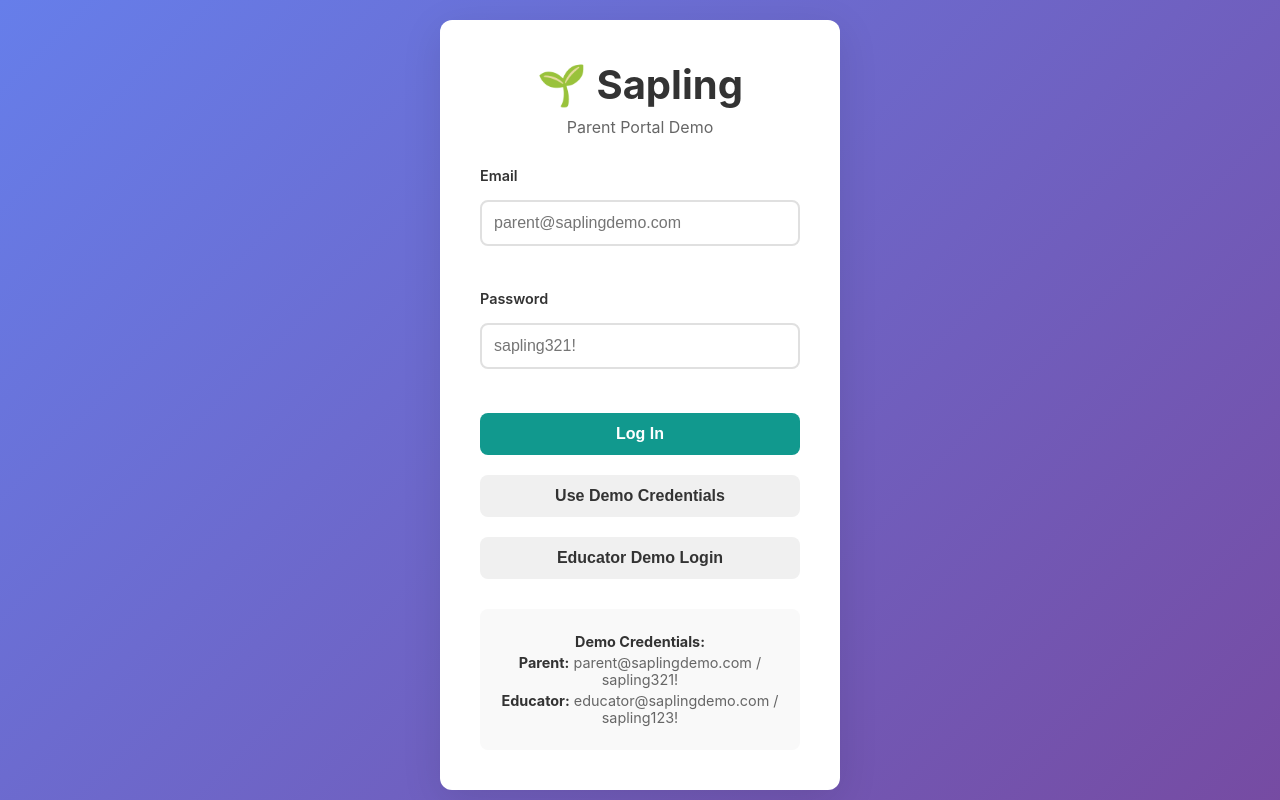
Integration: Login Flow › allows parent to login and see dashboard
Note: Click demo login button
Click the button "Use Demo Credentials": {"x": 640, "y": 496} [480,475,800,517]
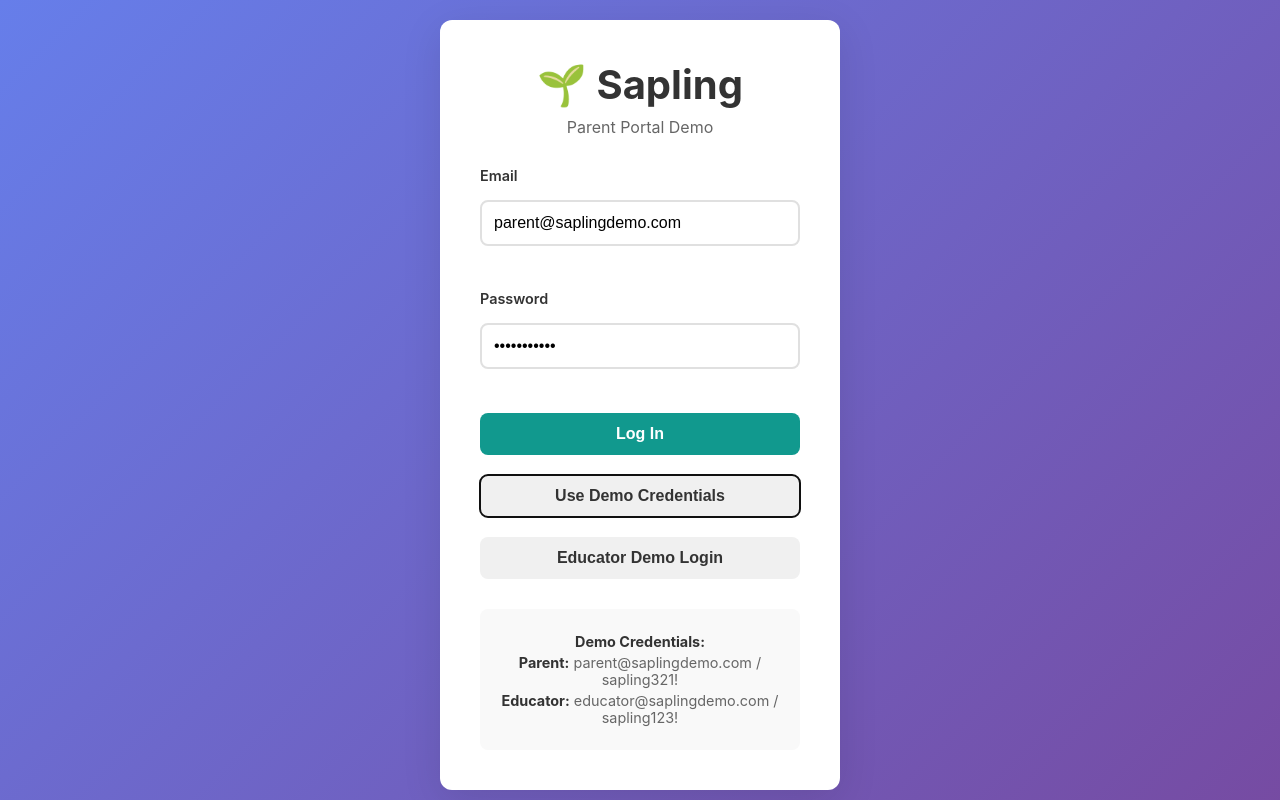
Note: Submit login
Click the button "Log In": {"x": 640, "y": 434} [480,413,800,455]
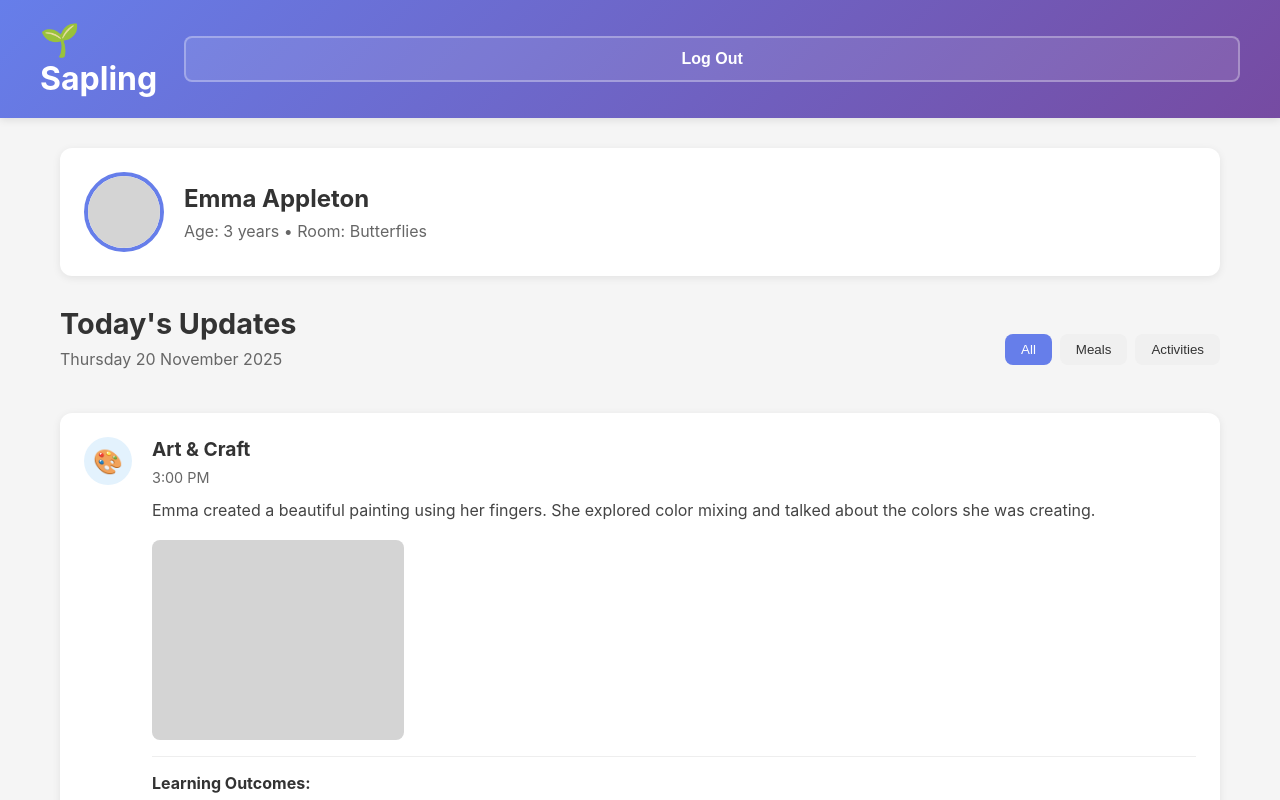
Expected: the heading "Emma Appleton" is shown, [184,184,369,212]
Expected: the heading "Today's Updates" is shown, [60,306,296,341]
